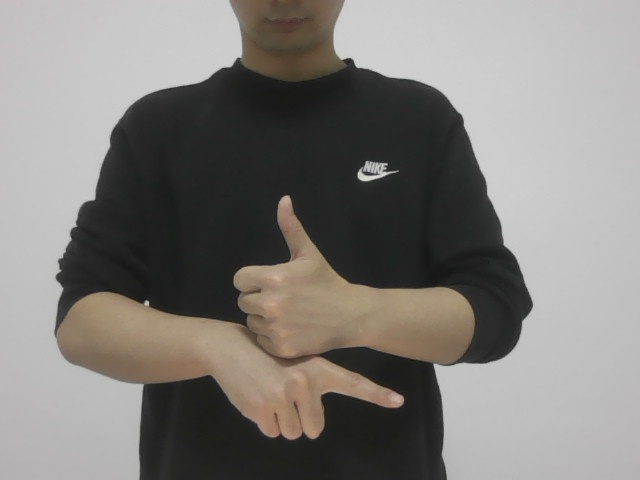birthday: (221, 189, 408, 447)
